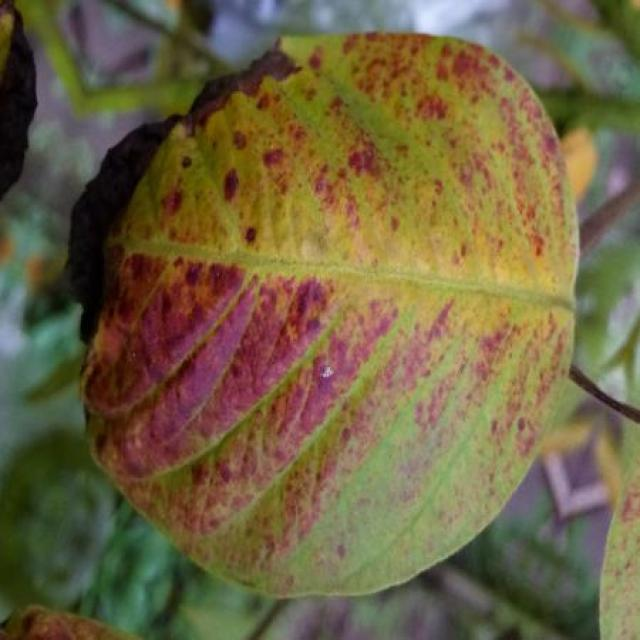Red Rust: (69, 34, 578, 596)
